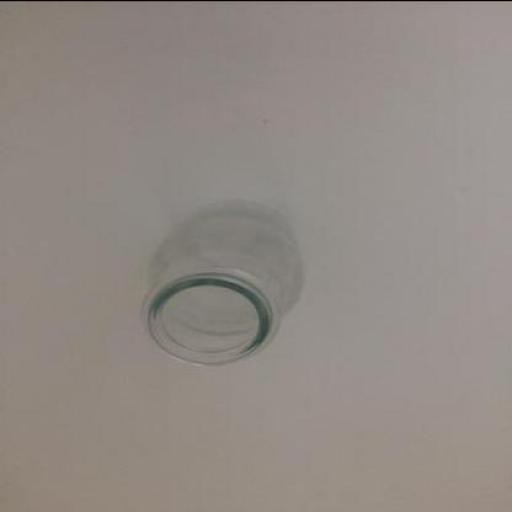glass: (146, 201, 308, 366)
